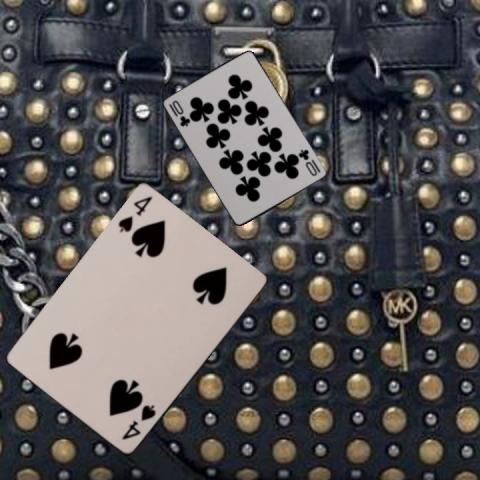10c: (295, 146, 322, 177), (166, 97, 192, 128)
4s: (115, 193, 154, 235), (119, 402, 157, 442)
